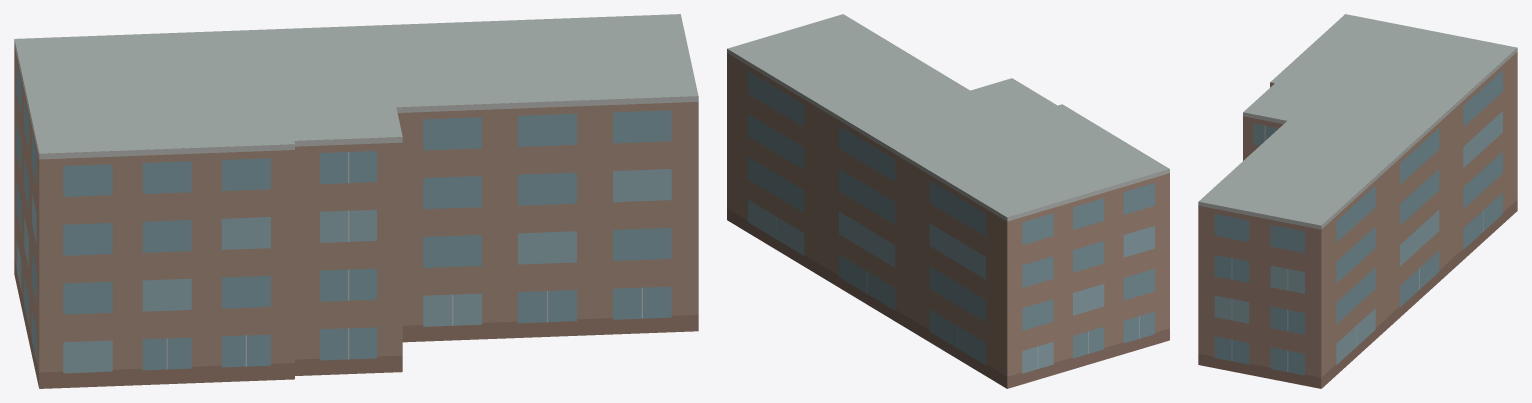
Rendered from survey-upis-32539277.glb.
The picture shows the model from 3 angles, left to right: view 1: azimuth 30°, elevation 25°; view 2: azimuth 150°, elevation 25°; view 3: azimuth 270°, elevation 25°; orthographic projection. The views are drawn at different scales.
Parts seen in each view (by area): view 1: survey-upis-32539277.tmp; view 2: survey-upis-32539277.tmp; view 3: survey-upis-32539277.tmp.
Boxes of the visible parts, x1=… form: survey-upis-32539277.tmp: x1=14, y1=14, x2=698, y2=388; survey-upis-32539277.tmp: x1=727, y1=14, x2=1169, y2=388; survey-upis-32539277.tmp: x1=1198, y1=14, x2=1517, y2=388.
Bounding box in the file's own units: 27.8 × 10 × 17.72.
